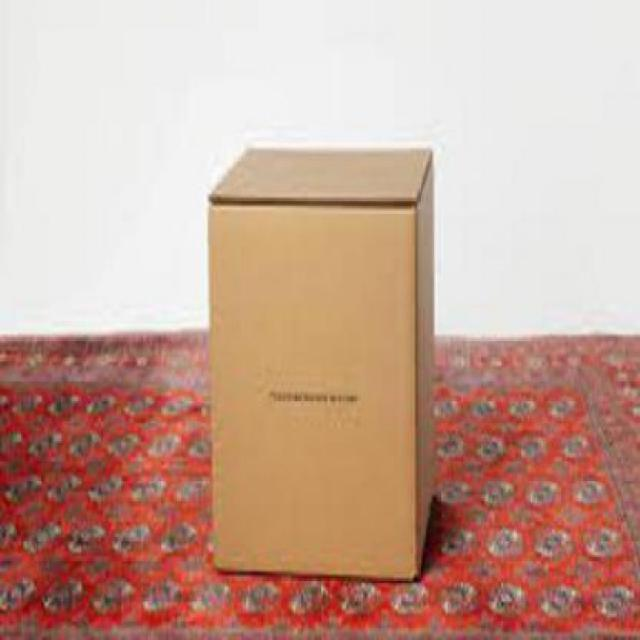box: (206, 145, 437, 583)
